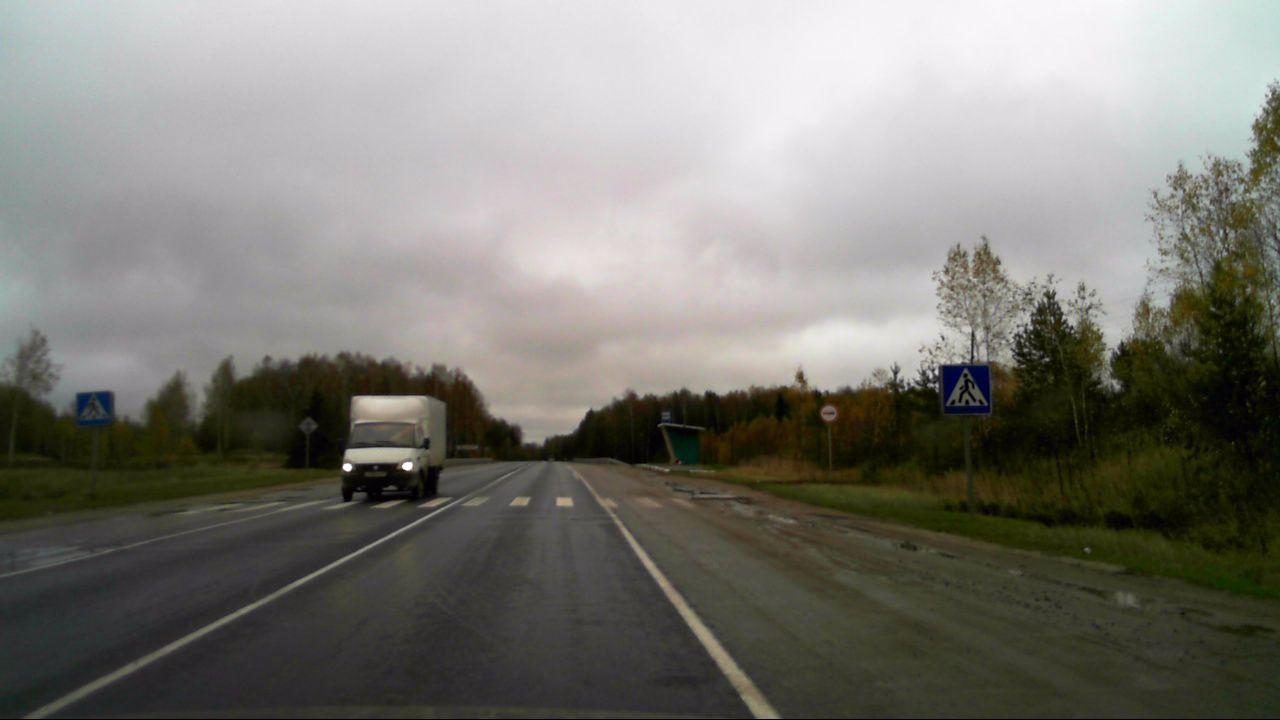road_sign: (940, 365, 992, 413)
